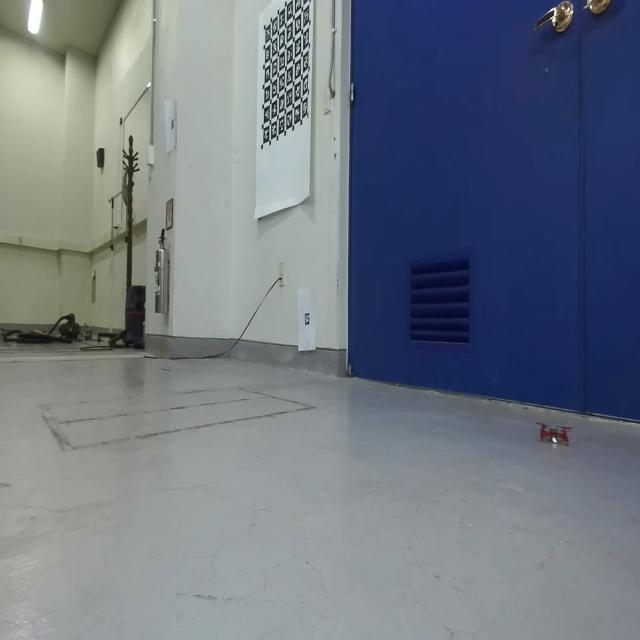crazyflie: (533, 412, 575, 450)
